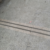zebra: (1, 4, 50, 42)
